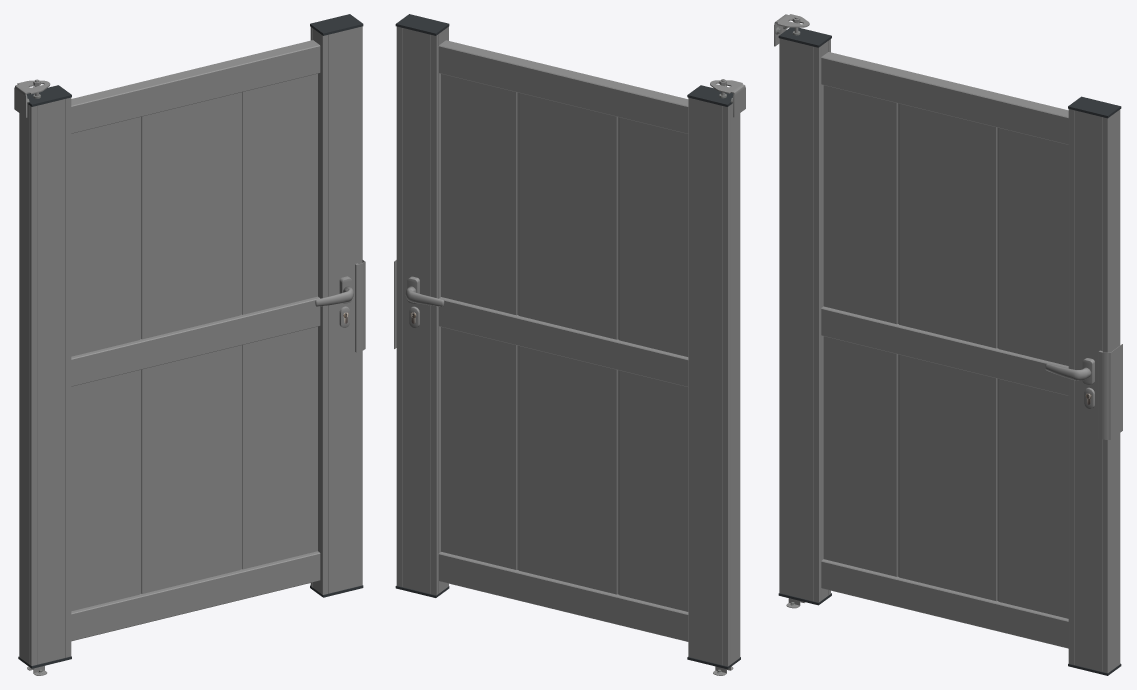
3 views of the same model, side by side, from view 1: azimuth 30°, elevation 25°; view 2: azimuth 150°, elevation 25°; view 3: azimuth 330°, elevation 25° (orthographic).
Visible parts, largest first — view 1: Shape107412279, Shape107412280, Shape010, Shape107412643, Shape107412644, Shape096, Shape095, Shape092, Shape107412637, Box2403, Rectangle057, Box2401; view 2: Shape107412279, Shape107412280, Shape010, Shape107412643, Shape107412644, Shape096, Shape095, Shape092, Box2403, Rectangle057, Box2401; view 3: Shape107412279, Shape010, Shape107412280, Shape107412644, Shape107412643, Shape096, Shape095, Shape092, Shape107412637, Box2403, Box2401.
Boxes of the visible parts, box(x1,y1,x2,y2) form: Shape107412279: box(141, 92, 241, 593); Shape107412280: box(242, 73, 317, 569); Shape010: box(71, 117, 141, 611); Shape107412643: box(19, 97, 71, 665); Shape107412644: box(310, 26, 362, 594); Shape096: box(71, 40, 320, 133); Shape095: box(71, 551, 320, 641); Shape092: box(71, 296, 320, 386); Shape107412637: box(355, 260, 365, 352); Box2403: box(310, 14, 363, 35); Rectangle057: box(14, 80, 50, 117); Box2401: box(26, 85, 71, 106); Shape107412279: box(517, 92, 617, 594); Shape107412280: box(441, 74, 517, 569); Shape010: box(617, 117, 688, 611); Shape107412643: box(688, 97, 740, 666); Shape107412644: box(396, 26, 448, 595); Shape096: box(438, 40, 688, 133); Shape095: box(438, 552, 688, 641); Shape092: box(438, 297, 688, 386); Box2403: box(395, 14, 449, 35); Rectangle057: box(710, 80, 745, 117); Box2401: box(687, 85, 733, 106); Shape107412279: box(899, 103, 998, 601); Shape010: box(823, 85, 898, 576); Shape107412280: box(998, 128, 1068, 618); Shape107412644: box(1068, 109, 1120, 672); Shape107412643: box(779, 38, 830, 602); Shape096: box(821, 52, 1068, 144); Shape095: box(821, 559, 1068, 648); Shape092: box(821, 306, 1068, 395); Shape107412637: box(1098, 344, 1122, 439); Box2403: box(1068, 96, 1121, 118); Box2401: box(778, 27, 831, 47).
Bounding box in the file's own units: 1014 × 1688 × 171.
8 materials, 4 textured.
